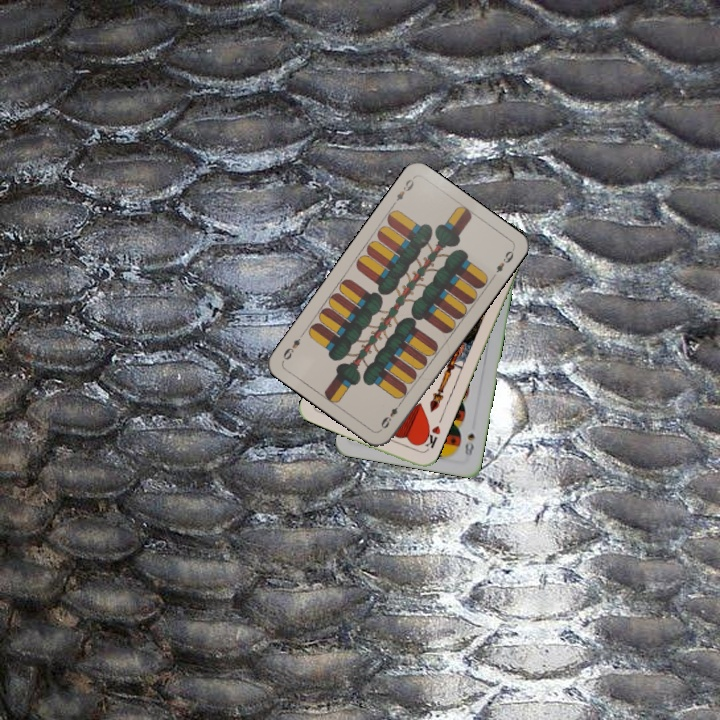E9: (388, 175, 417, 209), (377, 397, 405, 431)
HK: (417, 420, 443, 454)
S8: (461, 429, 477, 462)
